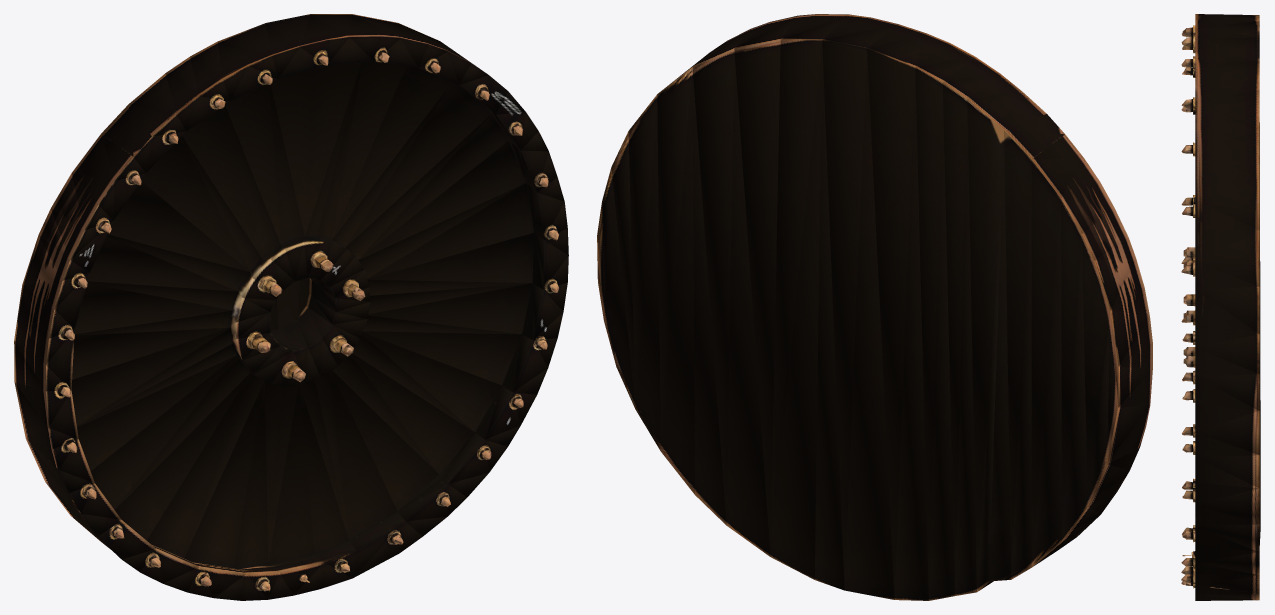
The model's file is wheel_disc.glb.
The picture shows the model from 3 angles, left to right: view 1: azimuth 30°, elevation 25°; view 2: azimuth 150°, elevation 25°; view 3: azimuth 270°, elevation 25°; orthographic projection. The views are drawn at different scales.
Visible parts, largest first — view 1: tripo_node_d7c4c363-25ba-47dd-a000-56b47c8171cd; view 2: tripo_node_d7c4c363-25ba-47dd-a000-56b47c8171cd; view 3: tripo_node_d7c4c363-25ba-47dd-a000-56b47c8171cd.
Boxes of the visible parts, box(x1,y1,x2,y2) form: tripo_node_d7c4c363-25ba-47dd-a000-56b47c8171cd: box(14, 14, 568, 600); tripo_node_d7c4c363-25ba-47dd-a000-56b47c8171cd: box(597, 14, 1152, 600); tripo_node_d7c4c363-25ba-47dd-a000-56b47c8171cd: box(1181, 14, 1260, 600).
Bounding box in the file's own units: 0.9982 × 0.9982 × 0.1351.
1 material, 1 textured.
